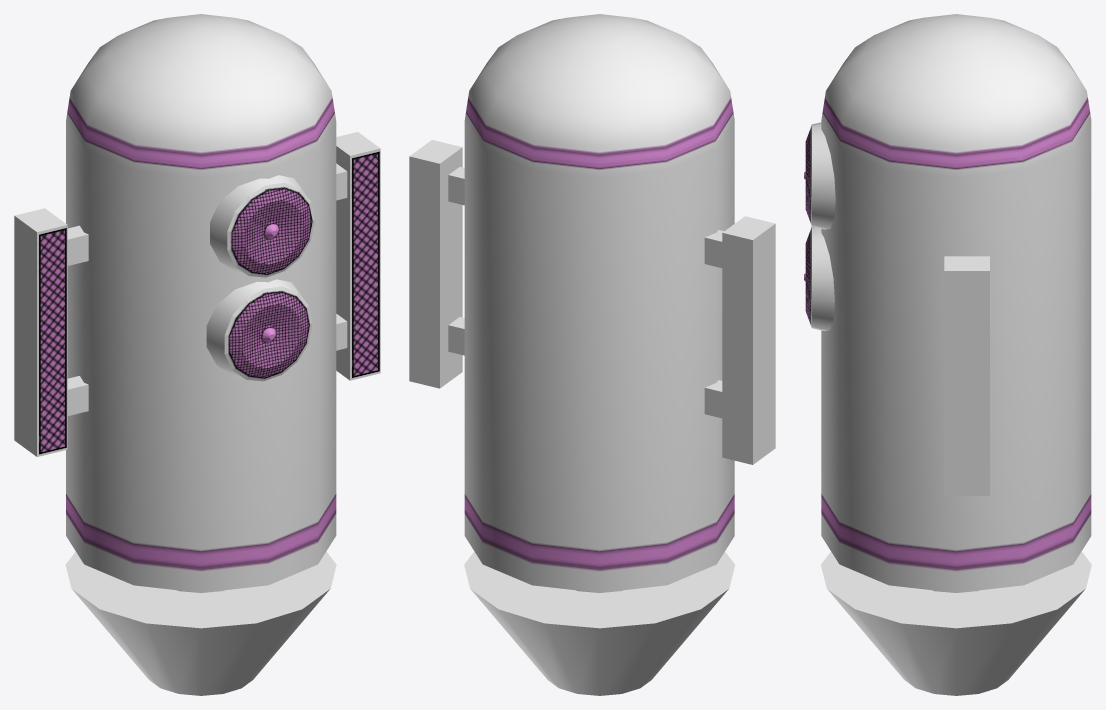
File: speaker2.FBX
The picture shows the model from 3 angles, left to right: view 1: azimuth 30°, elevation 25°; view 2: azimuth 150°, elevation 25°; view 3: azimuth 270°, elevation 25°; orthographic projection.
Visible parts, largest first — view 1: speaker 2.0; view 2: speaker 2.0; view 3: speaker 2.0.
Part boxes in pixels (x1,y1,x2,y2): speaker 2.0: [14, 14, 380, 695]; speaker 2.0: [409, 14, 775, 695]; speaker 2.0: [804, 14, 1091, 695].
Bounding box in the file's own units: 175 × 313 × 127.
1 material, 1 textured.
